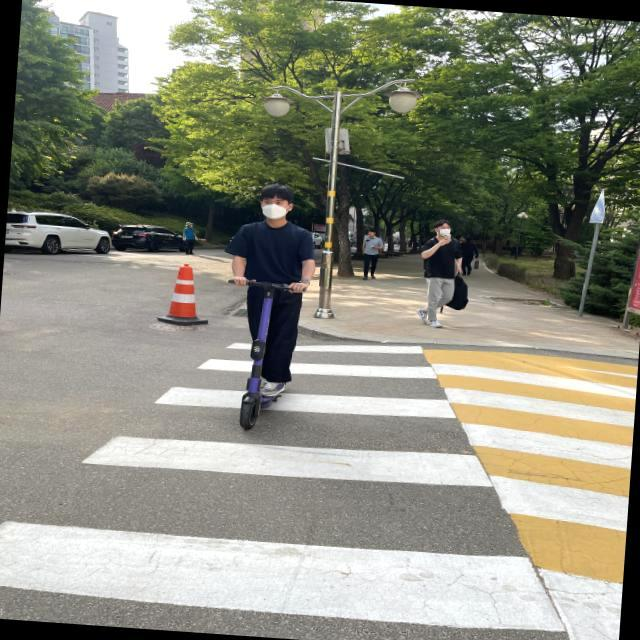bare_head: (256, 183, 304, 233)
human: (233, 178, 316, 390)
kickboard: (222, 374, 325, 445)
